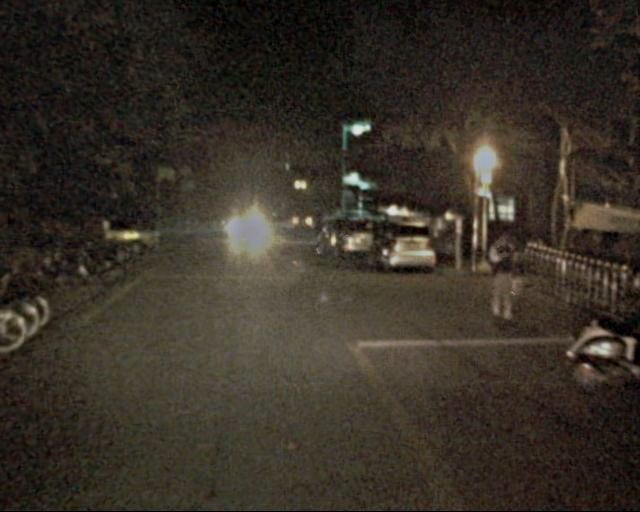person: (480, 228, 522, 327)
